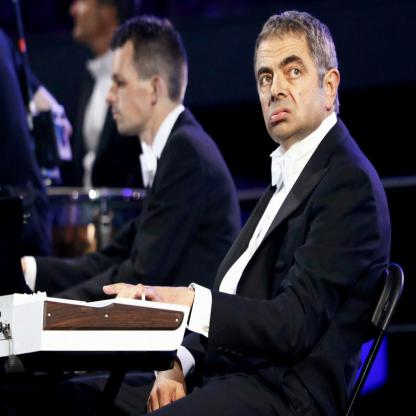face: (259, 46, 314, 137), (108, 48, 148, 134)
